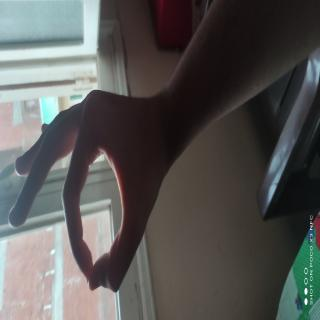Space: (7, 12, 108, 320)
